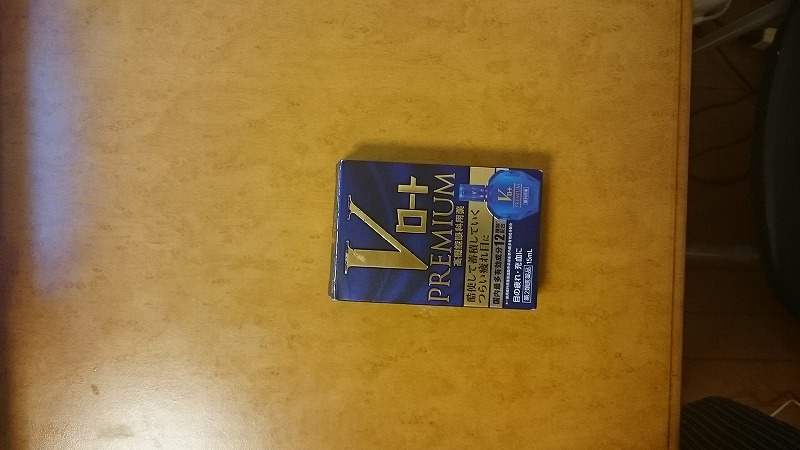D: (325, 149, 543, 323)
